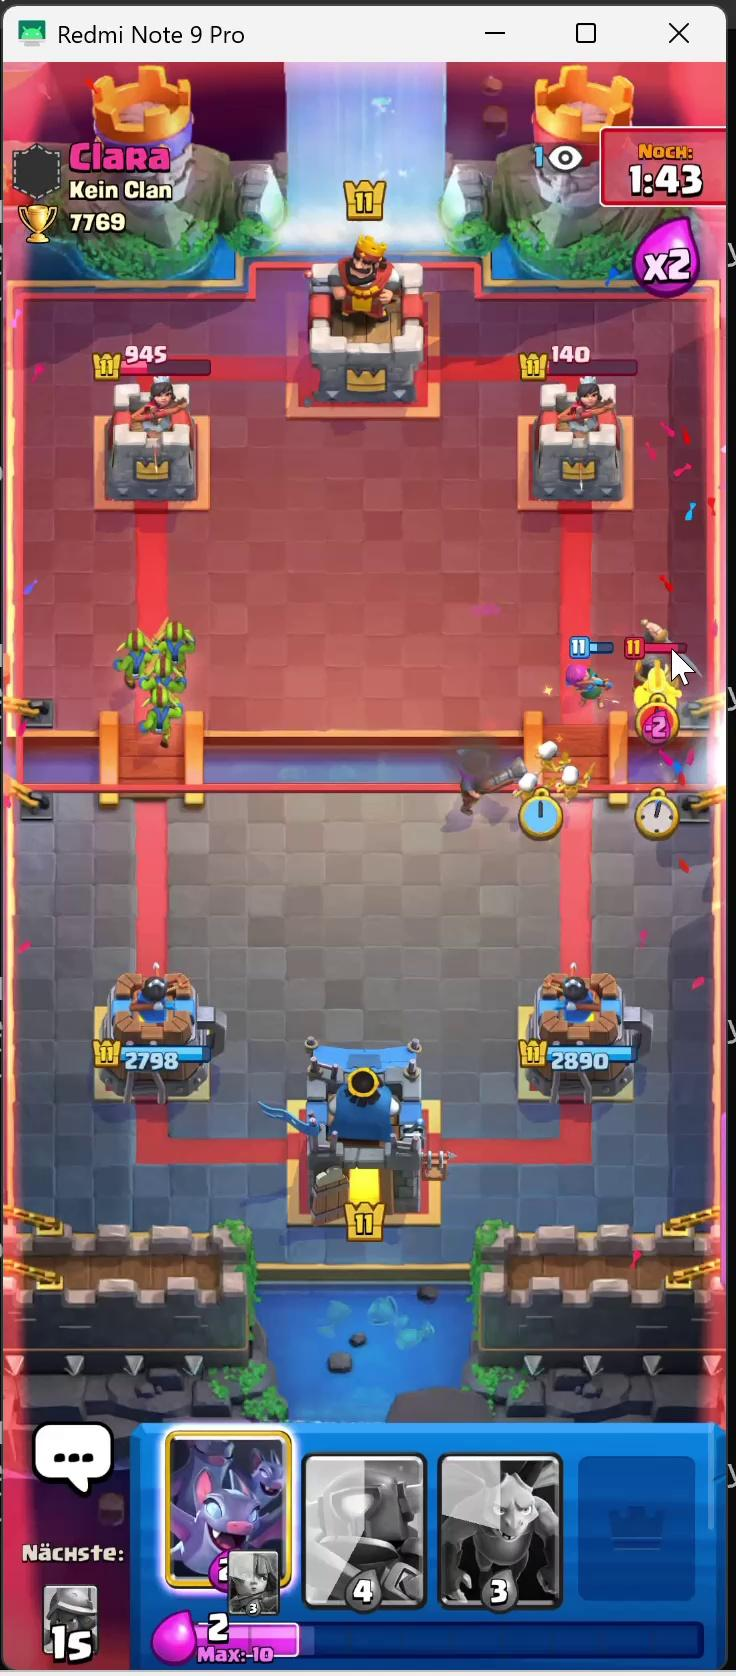archere: (566, 664, 609, 704)
chevalier: (629, 617, 683, 720)
gobelin: (140, 687, 182, 747), (160, 616, 205, 666), (119, 627, 151, 676), (152, 663, 188, 701)
gobelin_lances: (638, 670, 677, 720)
mousquetaire: (454, 744, 504, 818)
squelette: (514, 760, 541, 806), (557, 765, 584, 807), (531, 742, 563, 776)
